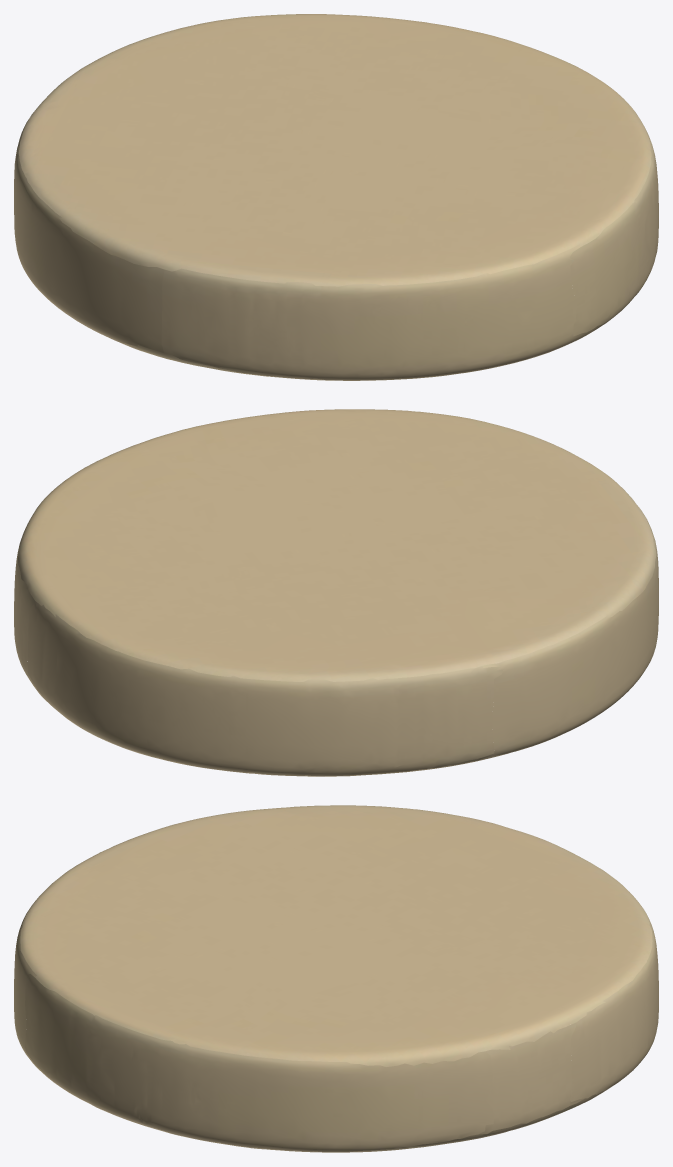
Rendered from stone.glb.
3 renders of one model, top to bottom at view 1: azimuth 30°, elevation 25°; view 2: azimuth 150°, elevation 25°; view 3: azimuth 270°, elevation 25°, orthographic. The views are drawn at different scales.
Parts seen in each view (by area): view 1: tmp6ypfa3bm.ply; view 2: tmp6ypfa3bm.ply; view 3: tmp6ypfa3bm.ply.
Part boxes in pixels (<box>): tmp6ypfa3bm.ply: <box>14,14,658,380</box>; tmp6ypfa3bm.ply: <box>14,409,658,776</box>; tmp6ypfa3bm.ply: <box>14,805,658,1152</box>.
Bounding box in the file's own units: 1.9 × 0.3394 × 1.99.
1 material, 1 textured.
